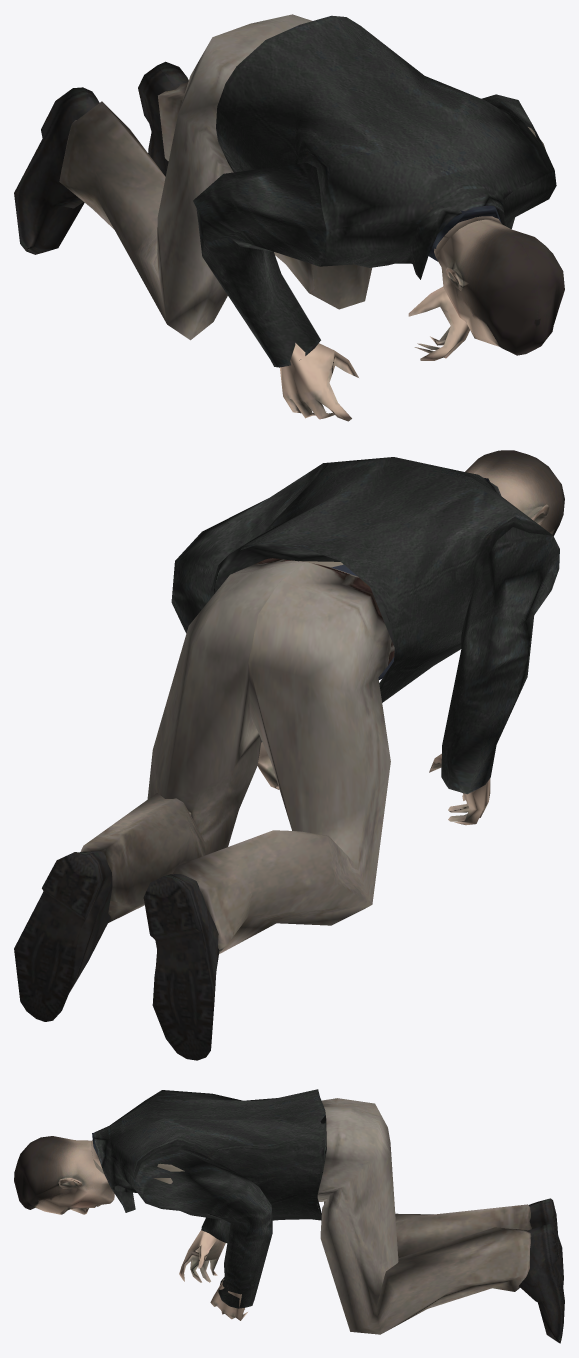
File: dest_nt_nuked_male_03_d0_LOD2.obj
The picture shows the model from 3 angles, top to bottom: view 1: azimuth 30°, elevation 25°; view 2: azimuth 150°, elevation 25°; view 3: azimuth 270°, elevation 25°; orthographic projection. The views are drawn at different scales.
Visible parts, largest first — view 1: mtl_nt_2020_manne_male01_jacket1, mtl_nt_2020_manne_male01_pants1, mtl_nt_2020_manne_male01_head1; view 2: mtl_nt_2020_manne_male01_pants1, mtl_nt_2020_manne_male01_jacket1, mtl_nt_2020_manne_male01_head1; view 3: mtl_nt_2020_manne_male01_pants1, mtl_nt_2020_manne_male01_jacket1, mtl_nt_2020_manne_male01_head1.
Part boxes in pixels (bbox=[...]): mtl_nt_2020_manne_male01_jacket1: bbox=[193, 15, 556, 367]; mtl_nt_2020_manne_male01_pants1: bbox=[14, 14, 371, 340]; mtl_nt_2020_manne_male01_head1: bbox=[280, 127, 564, 421]; mtl_nt_2020_manne_male01_pants1: bbox=[14, 558, 394, 1060]; mtl_nt_2020_manne_male01_jacket1: bbox=[171, 457, 559, 794]; mtl_nt_2020_manne_male01_head1: bbox=[257, 450, 564, 825]; mtl_nt_2020_manne_male01_pants1: bbox=[317, 1098, 564, 1343]; mtl_nt_2020_manne_male01_jacket1: bbox=[92, 1089, 326, 1308]; mtl_nt_2020_manne_male01_head1: bbox=[14, 1136, 247, 1320].
Size of the model in its own units: 66.99 by 66.32 by 147.
